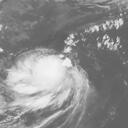cyclone: (8, 49, 75, 105)
